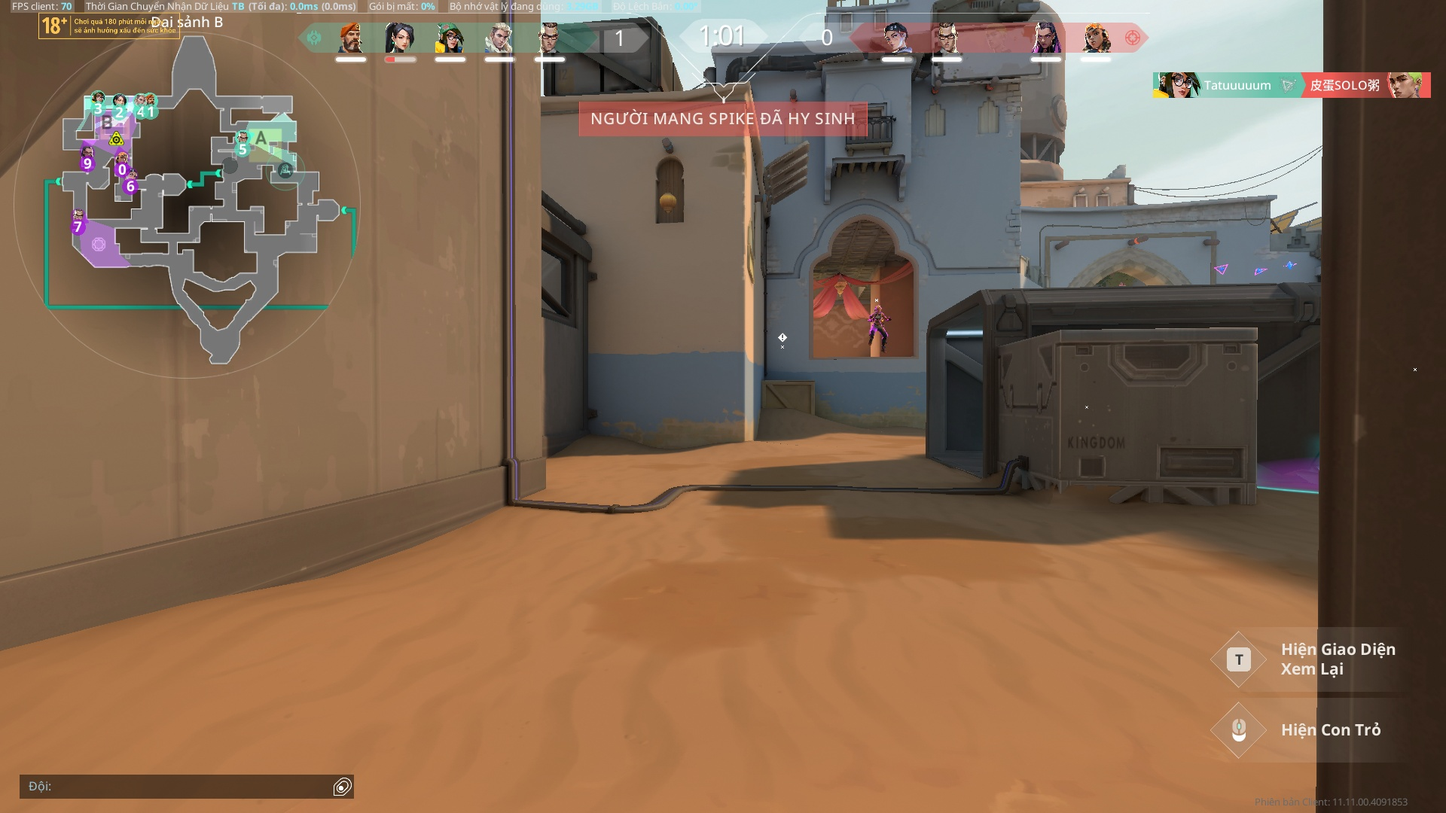body: (871, 311, 884, 326)
head: (874, 304, 881, 312)
